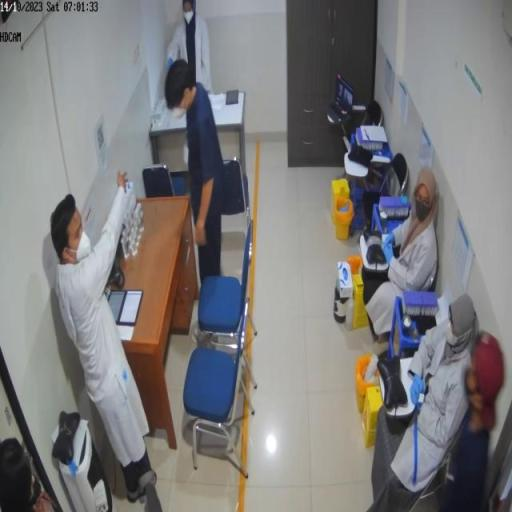person: (50, 190, 163, 507), (370, 295, 479, 508), (165, 62, 225, 289), (361, 167, 440, 334), (441, 332, 506, 512), (167, 1, 214, 95), (1, 439, 58, 512)
